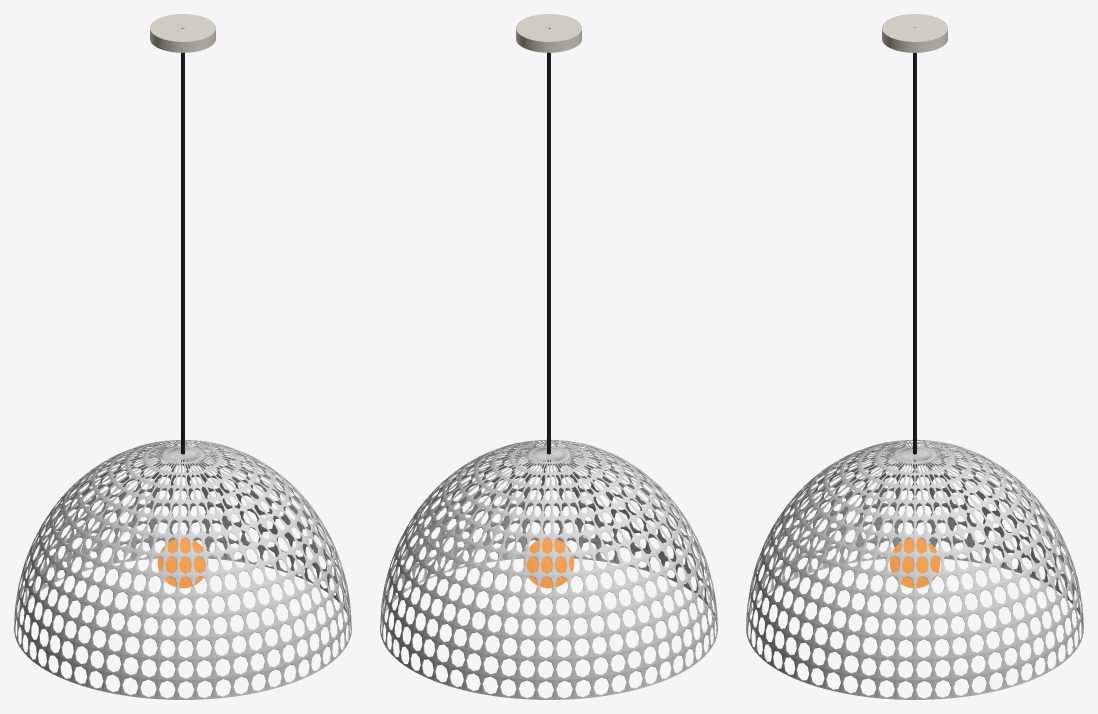
The model's file is pendant__1.glb.
3 views of the same model, side by side, from view 1: azimuth 30°, elevation 25°; view 2: azimuth 150°, elevation 25°; view 3: azimuth 270°, elevation 25° (orthographic).
Parts seen in each view (by area): view 1: rattan shade, canopy, cable, bulb; view 2: rattan shade, canopy, cable, bulb; view 3: rattan shade, canopy, cable, bulb.
Part boxes in pixels (<box>): rattan shade: <box>14,439,351,699</box>; canopy: <box>150,14,215,52</box>; cable: <box>181,28,184,465</box>; bulb: <box>157,538,208,588</box>; rattan shade: <box>380,439,717,699</box>; canopy: <box>516,14,581,52</box>; cable: <box>547,28,550,465</box>; bulb: <box>523,538,574,588</box>; rattan shade: <box>746,439,1083,699</box>; canopy: <box>882,14,947,52</box>; cable: <box>913,27,916,465</box>; bulb: <box>889,538,940,588</box>.
Size of the model in its own units: 0.561 by 1.1 by 0.561.
